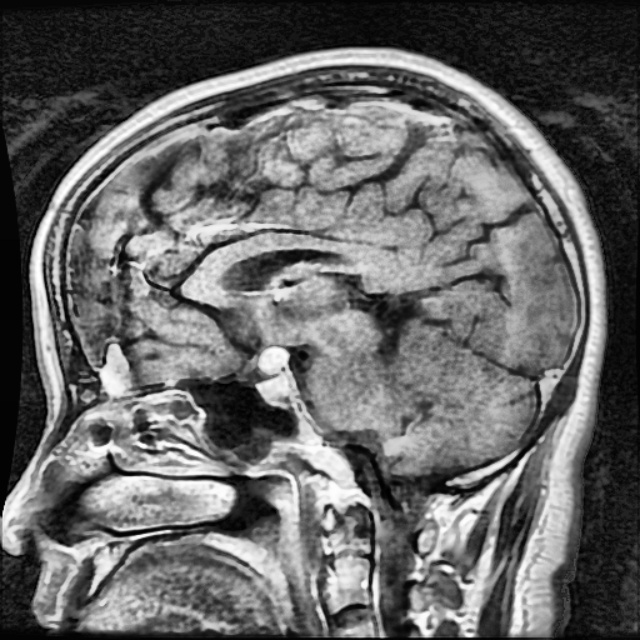Pituitary: (254, 345, 293, 400)
